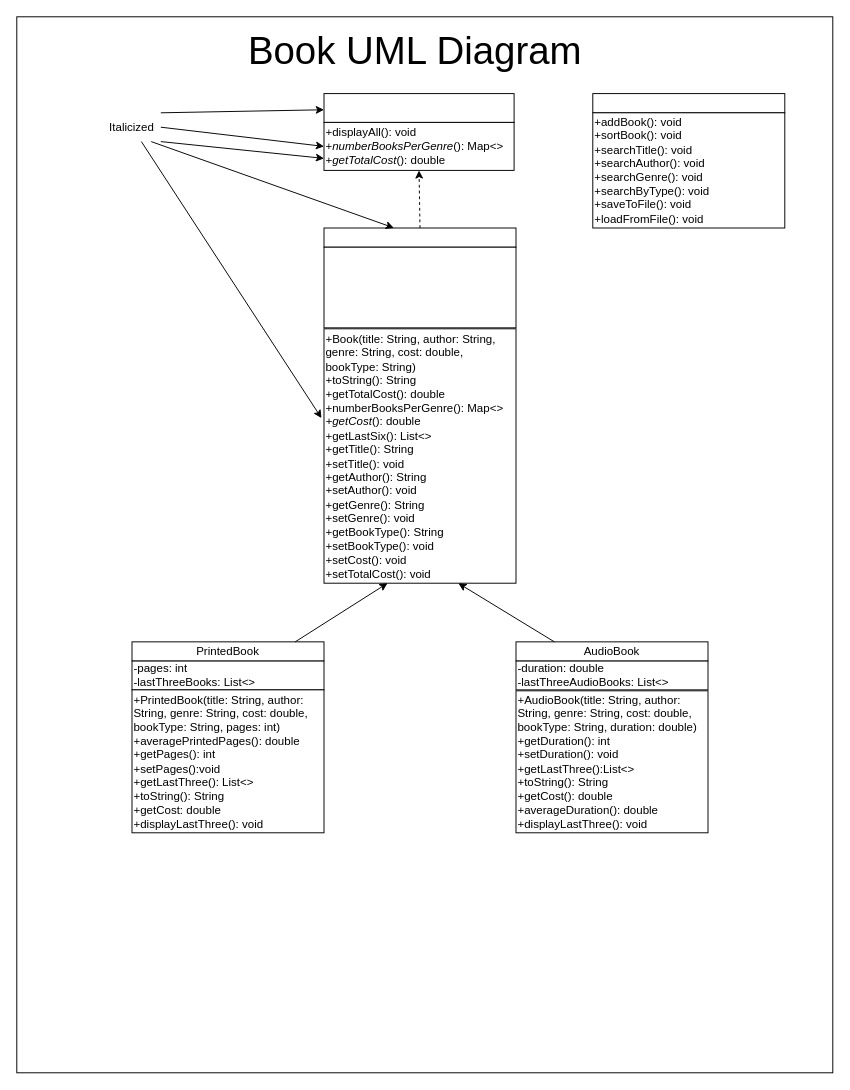
Image size: 850x1090. Some labels were removed from this diagram. Here are the shapes that lost their labels. From the top down, the box of each, then its label:
(323, 93, 514, 122): <<Interface>> BookInterface
(592, 93, 785, 113): BookApplication
(323, 227, 516, 247): Book
(323, 246, 516, 328): -title: String -author: String -genre: String -cost: double -bookType: String
